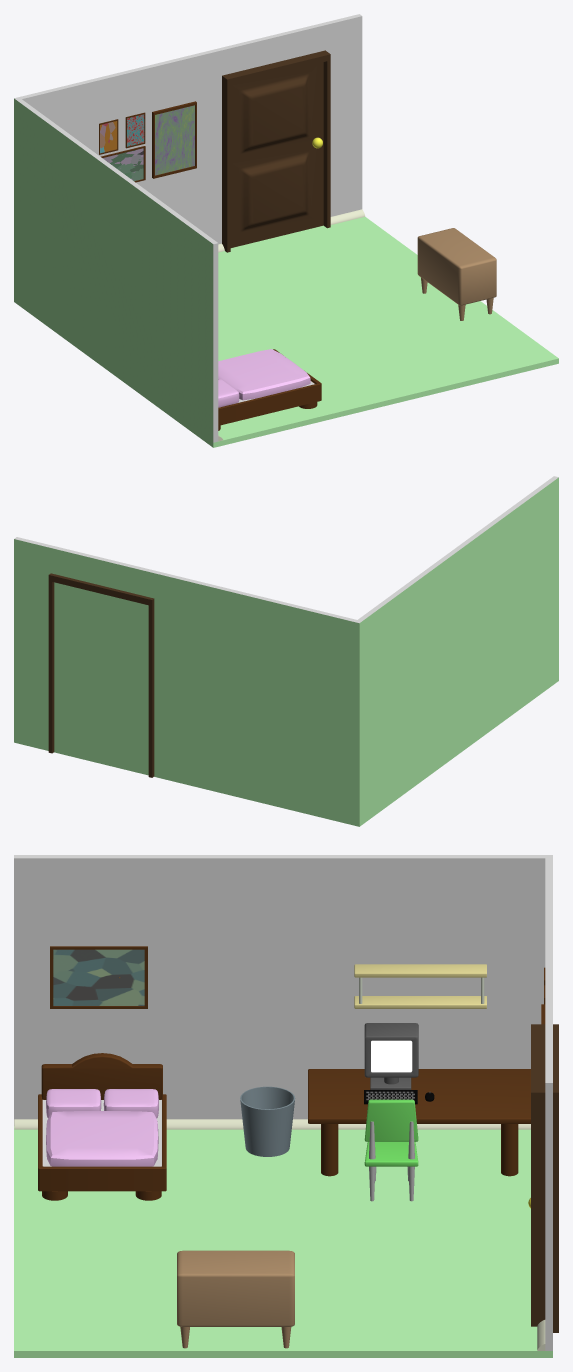
Rendered from room.glb.
The picture shows the model from 3 angles, top to bottom: view 1: azimuth 30°, elevation 25°; view 2: azimuth 150°, elevation 25°; view 3: azimuth 270°, elevation 25°; orthographic projection. The views are drawn at different scales.
Visible parts, largest first — view 1: Raum, Bett, Bilder, Schrank; view 2: Raum; view 3: Raum, Bett, Tisch, Schrank, Bild, Computer, Stuhl, Bücherregal, Mülleimer.
Part boxes in pixels (<box>): Raum: <box>14,14,558,447</box>; Bett: <box>218,349,321,430</box>; Bilder: <box>99,101,196,182</box>; Schrank: <box>417,228,496,320</box>; Raum: <box>14,476,558,826</box>; Raum: <box>14,855,558,1357</box>; Bett: <box>38,1053,166,1200</box>; Tisch: <box>308,1069,530,1176</box>; Schrank: <box>177,1250,294,1348</box>; Bild: <box>50,946,147,1008</box>; Computer: <box>364,1023,434,1104</box>; Stuhl: <box>364,1099,418,1201</box>; Bücherregal: <box>354,964,486,1008</box>; Mülleimer: <box>240,1086,295,1156</box>.
Bounding box in the file's own units: 3.48 × 1.96 × 3.52.
23 materials, 5 textured.
